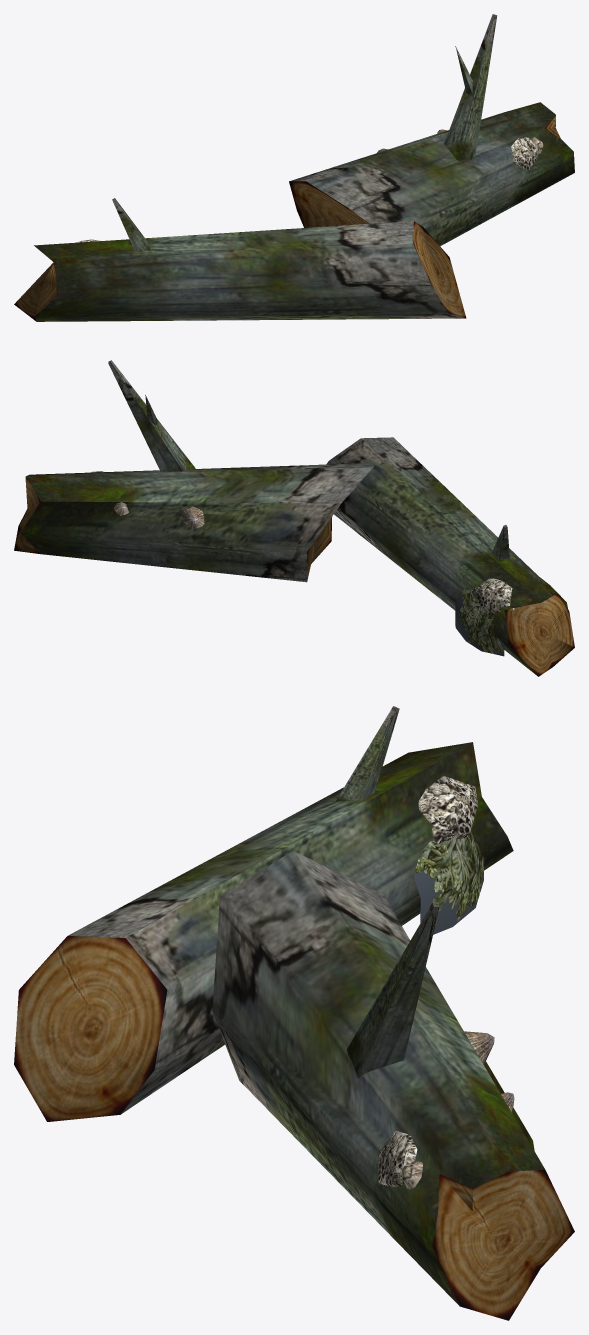
The model's file is pir_m_prp_dvj_logGroupSeaweed_b.fbx.
The picture shows the model from 3 angles, top to bottom: view 1: azimuth 30°, elevation 25°; view 2: azimuth 150°, elevation 25°; view 3: azimuth 270°, elevation 25°; orthographic projection. The views are drawn at different scales.
Parts seen in each view (by area): view 1: log, log2, barnacle2; view 2: log2, log, seaweed9, barnacle; view 3: log2, log, seaweed9, barnacle, barnacle2.
Part boxes in pixels (x1,y1,x2,y2): log: (14,198,466,321); log2: (289,14,574,246); barnacle2: (511,137,539,170); log2: (14,360,374,582); log: (326,437,574,676); seaweed9: (455,587,504,656); barnacle: (471,578,514,613); log2: (212,851,574,1320); log: (14,706,513,1121); seaweed9: (414,832,484,934); barnacle: (418,776,477,844); barnacle2: (378,1131,417,1187).
Bounding box in the file's own units: 1171 × 422 × 579.
2 materials, 2 textured.
